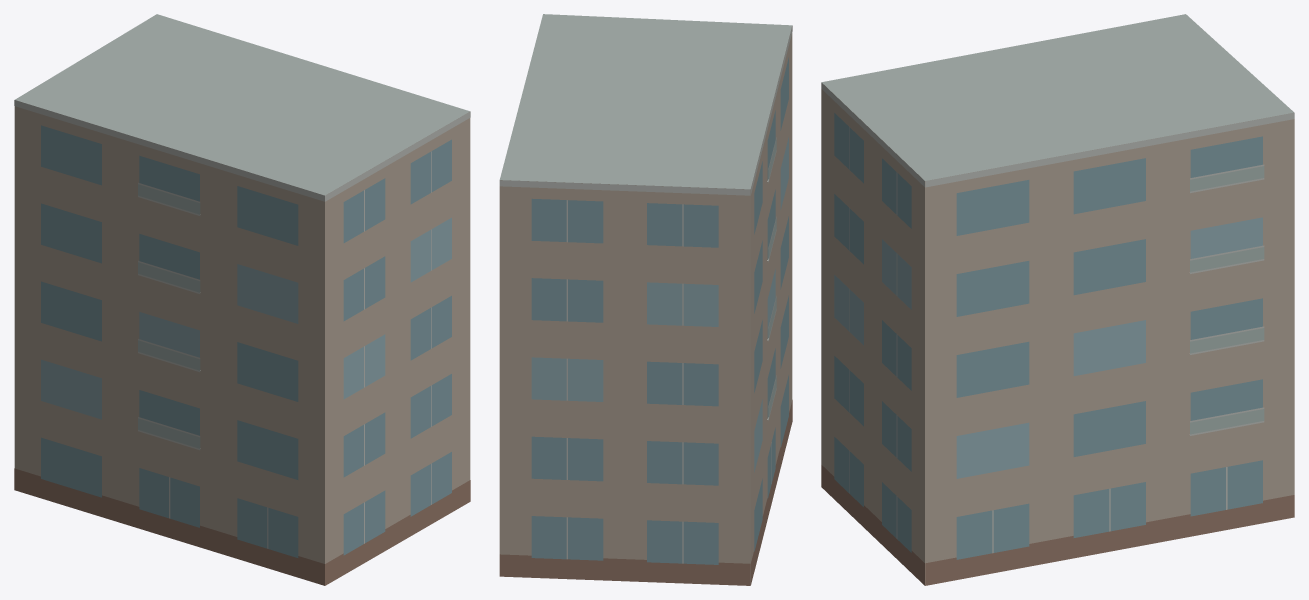
File: residential-d395759f-117a-4aef-a98d-e661f8557624.glb
The picture shows the model from 3 angles, left to right: view 1: azimuth 30°, elevation 25°; view 2: azimuth 150°, elevation 25°; view 3: azimuth 270°, elevation 25°; orthographic projection. The views are drawn at different scales.
Parts seen in each view (by area): view 1: residential-d395759f-117a-4aef-a98d-e661f8557624.tmp; view 2: residential-d395759f-117a-4aef-a98d-e661f8557624.tmp; view 3: residential-d395759f-117a-4aef-a98d-e661f8557624.tmp.
Boxes of the visible parts, box(x1,y1,x2,y2) form: residential-d395759f-117a-4aef-a98d-e661f8557624.tmp: box(14, 14, 470, 585); residential-d395759f-117a-4aef-a98d-e661f8557624.tmp: box(499, 14, 792, 585); residential-d395759f-117a-4aef-a98d-e661f8557624.tmp: box(821, 14, 1294, 585).
Bounding box in the file's own units: 13.51 × 15.25 × 16.16.
